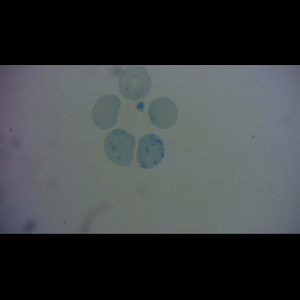aggregate reticulocyte: (135, 132, 167, 171)
erythrocyte: (90, 93, 121, 131), (148, 97, 178, 131)
punctate reticulocyte: (103, 127, 137, 168), (118, 65, 152, 101)
